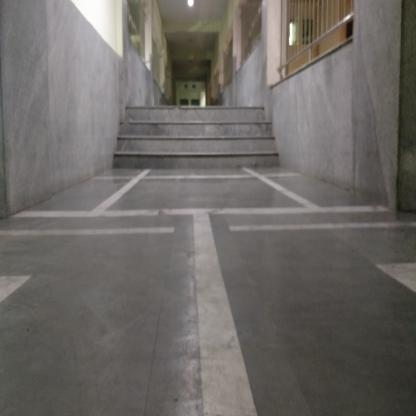stairs: (126, 107, 267, 172)
